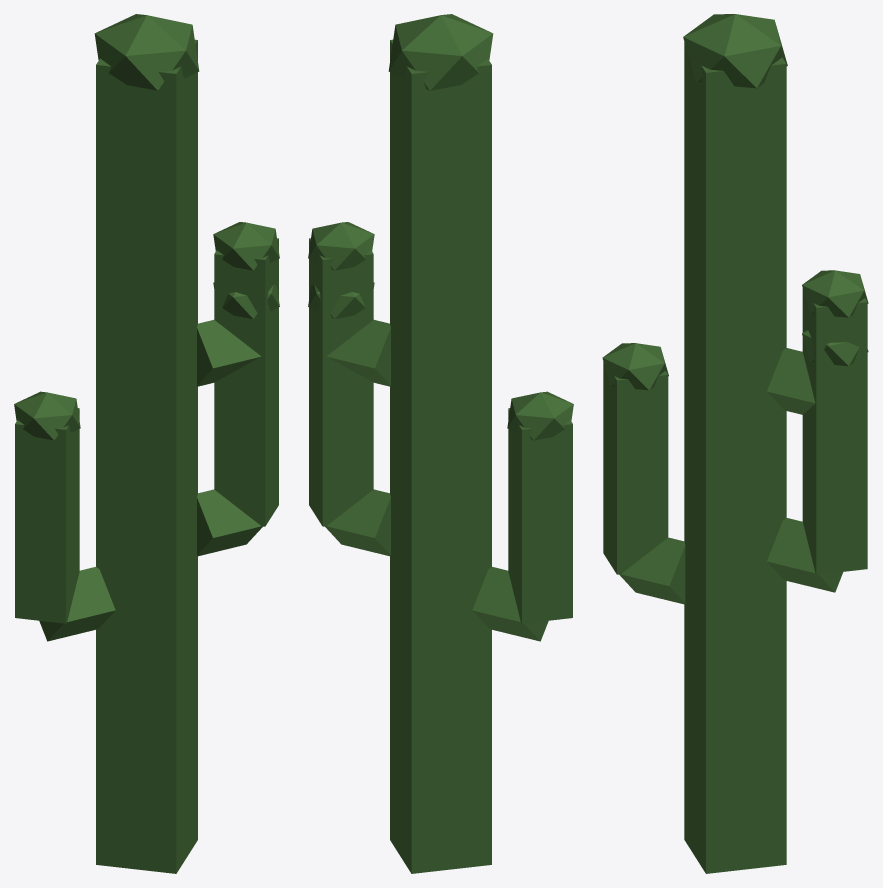
Rendered from bg_desert_cactus_4_lod2.glb.
The picture shows the model from 3 angles, left to right: view 1: azimuth 30°, elevation 25°; view 2: azimuth 150°, elevation 25°; view 3: azimuth 330°, elevation 25°; orthographic projection.
Visible parts, largest first — view 1: body; view 2: body; view 3: body.
Part boxes in pixels (x1,y1,x2,y2): body: [14, 14, 279, 873]; body: [308, 14, 573, 873]; body: [602, 14, 868, 873].
Bounding box in the file's own units: 1.14 × 3.45 × 0.44.
